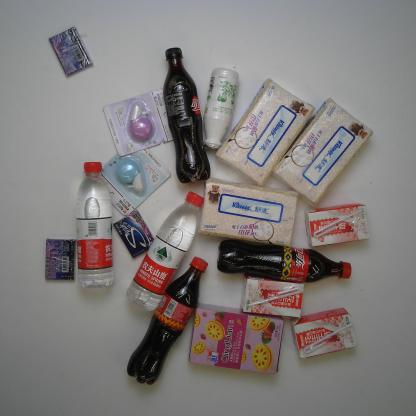Dessert: (187, 302, 284, 374)
Drink: (126, 257, 208, 385), (128, 191, 204, 312), (162, 47, 211, 183), (216, 239, 351, 284), (75, 162, 115, 290)
Gum: (48, 26, 92, 77), (113, 210, 157, 258), (45, 239, 76, 280)
Milk: (291, 308, 357, 359), (203, 67, 239, 149), (305, 204, 370, 248), (241, 273, 305, 317)
Stationery: (90, 139, 172, 217), (103, 88, 178, 158)
Tissue: (214, 78, 316, 188), (272, 98, 374, 207), (196, 178, 298, 248)
